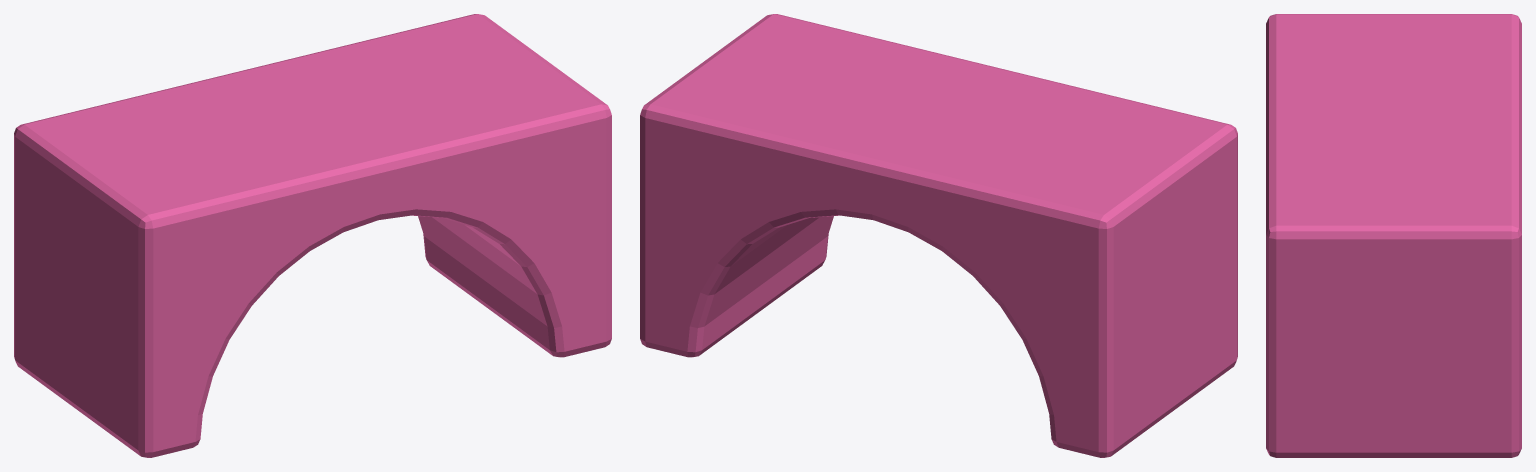
Rendered from block_tunnel.fbx.
The picture shows the model from 3 angles, left to right: view 1: azimuth 30°, elevation 25°; view 2: azimuth 150°, elevation 25°; view 3: azimuth 270°, elevation 25°; orthographic projection. The views are drawn at different scales.
Parts seen in each view (by area): view 1: Tunnel; view 2: Tunnel; view 3: Tunnel.
Boxes of the visible parts, <box> form: Tunnel: <box>14,14,611,457</box>; Tunnel: <box>640,14,1237,457</box>; Tunnel: <box>1266,14,1521,457</box>.
Size of the model in its own units: 102 by 50 by 50.
